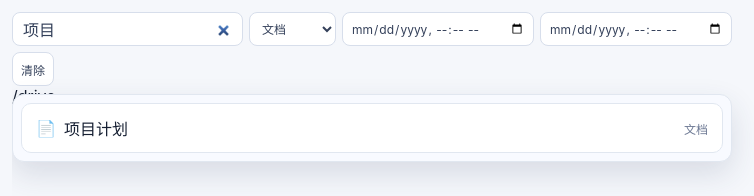
Test: 全局搜索入口 › 从 URL 恢复筛选并在打开结果时记录最近访问
The width and height of the screenshot is (754, 196).
Expected: the search field named "全局搜索" holds "项目", [12, 12, 243, 46]
Expected: the dropdown named "资源类型" shows "文档", [249, 12, 336, 46]
Click the option "📄 项目计划 文档": click(372, 128) [26, 108, 718, 148]
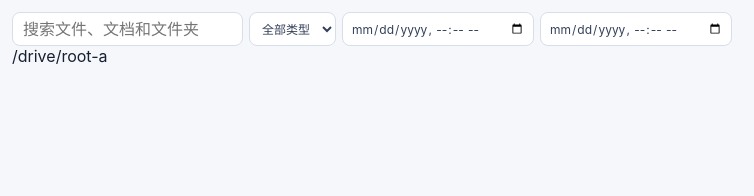
Result: the text with test id "location" reads "/drive/root-a" at [12, 46, 108, 66]
